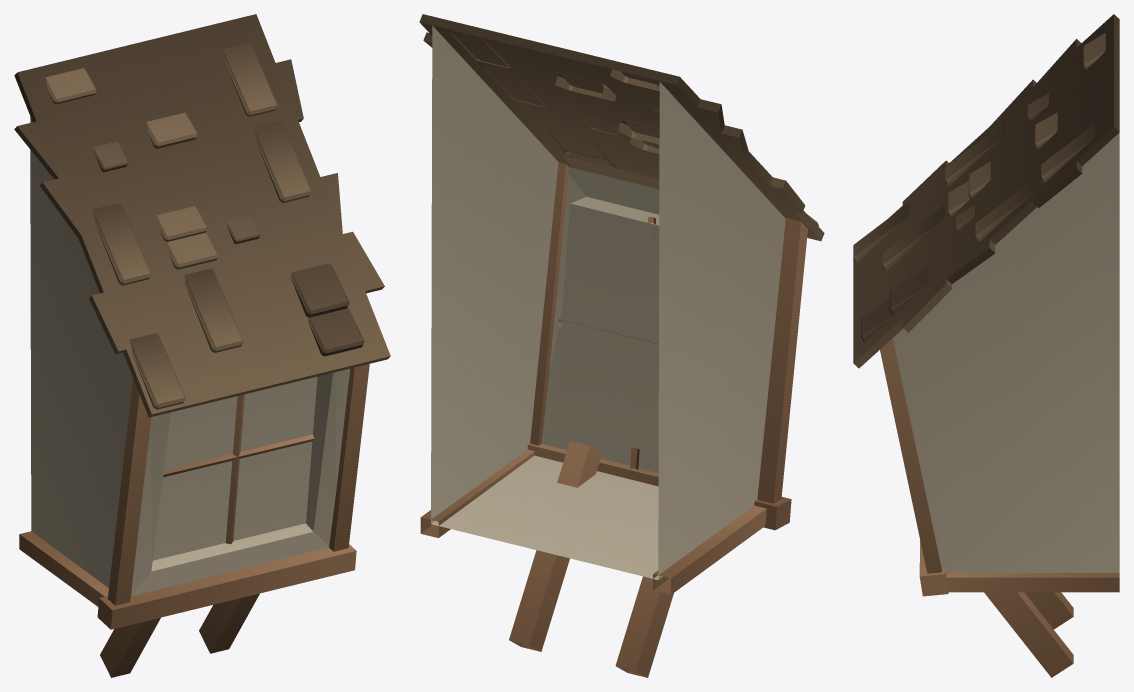
Rendered from ZLP_Build_A_24.FBX.
3 renders of one model, left to right at view 1: azimuth 30°, elevation 25°; view 2: azimuth 150°, elevation 25°; view 3: azimuth 270°, elevation 25°, orthographic. The views are drawn at different scales.
Parts seen in each view (by area): view 1: ZLP_Build_A_24; view 2: ZLP_Build_A_24; view 3: ZLP_Build_A_24.
Boxes of the visible parts, <box> form: ZLP_Build_A_24: <box>14,14,390,677</box>; ZLP_Build_A_24: <box>419,14,824,677</box>; ZLP_Build_A_24: <box>853,14,1119,677</box>.
Size of the model in its own units: 265 by 543 by 226.
